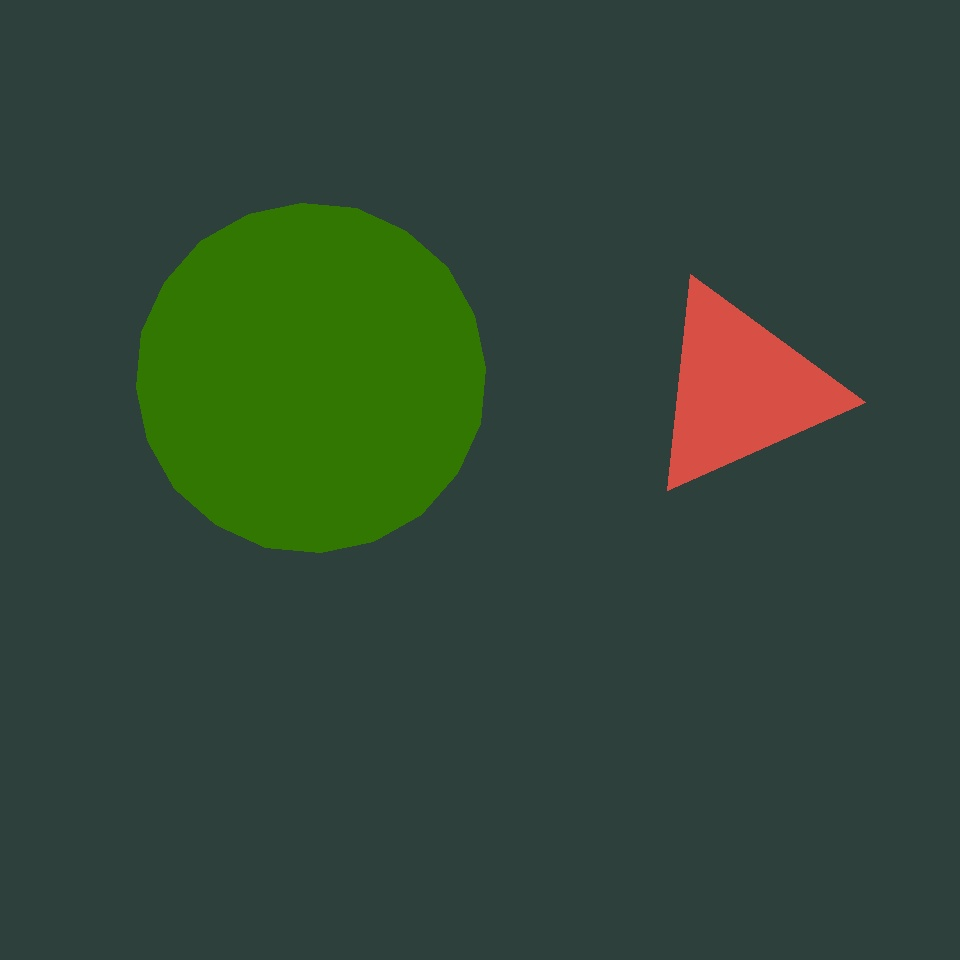circle: (609, 594, 858, 857), (642, 281, 840, 497)
triangle: (137, 204, 486, 552), (612, 5, 732, 126)
